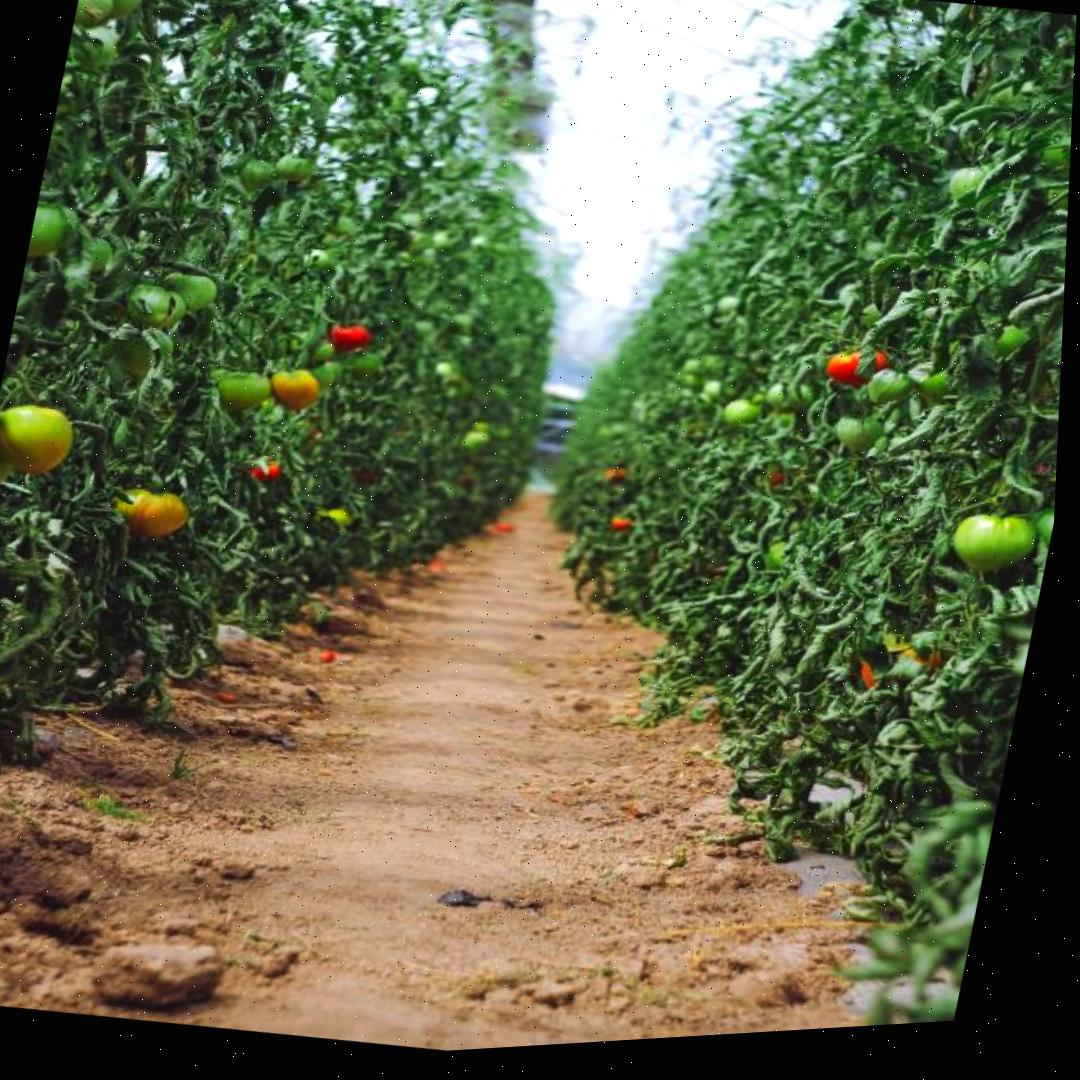matang: (822, 343, 892, 392)
mentah: (947, 505, 1042, 581), (271, 150, 316, 185)
setengah_matang: (0, 397, 79, 483), (101, 483, 192, 547), (265, 364, 323, 414)
